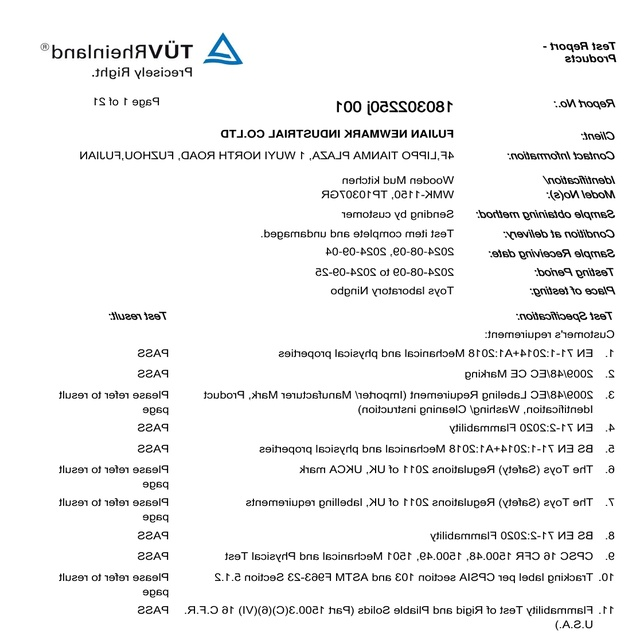tuv_rheinland: (38, 30, 245, 69)
